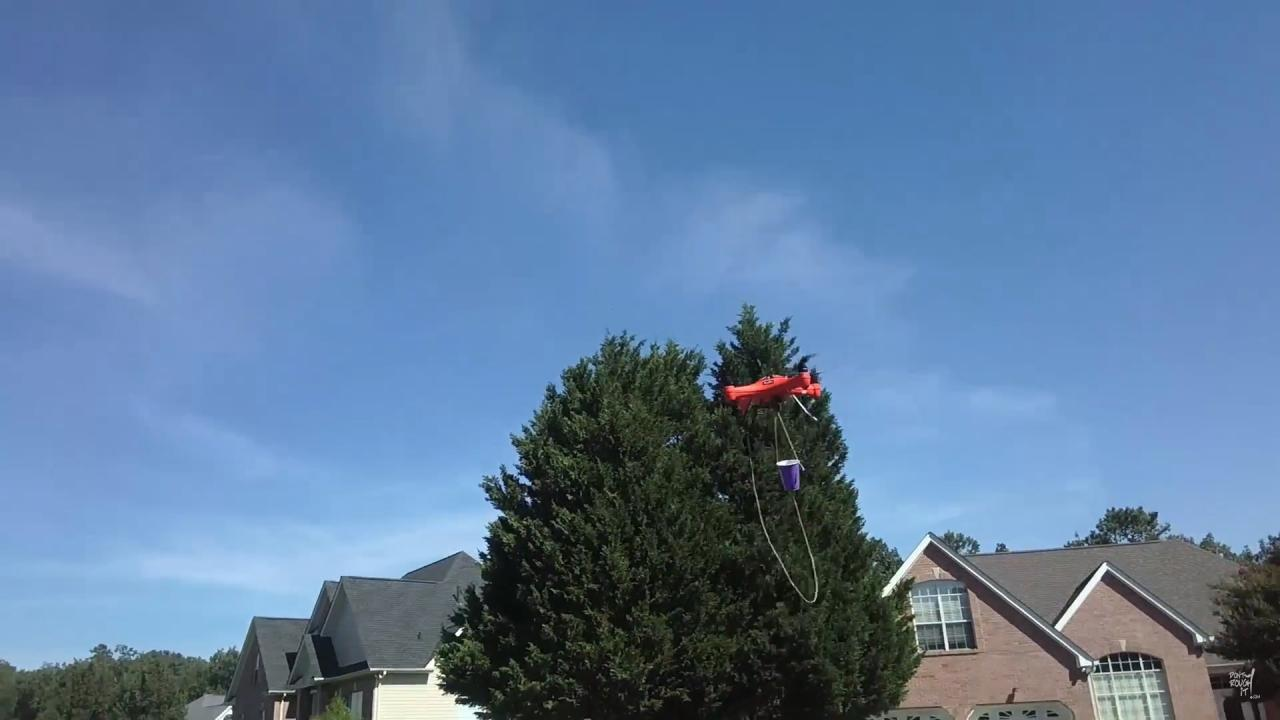Drone: (704, 342, 839, 441)
